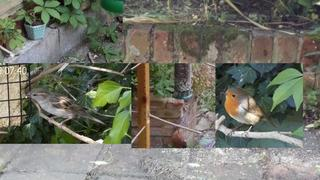robin: (220, 87, 279, 140)
sparrow: (24, 87, 107, 132)
